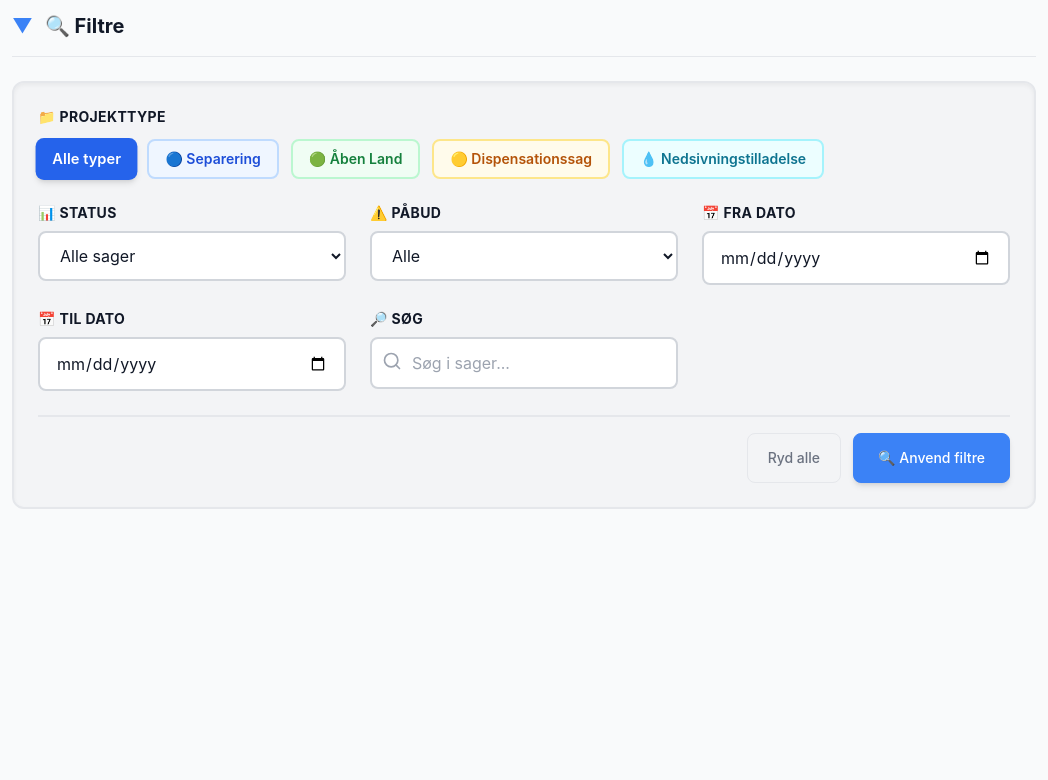
SagerFilters › shows clear button in search when text entered
Type "test" into the field named "Søg i sager" at point(524, 363), box left=370, top=337, right=678, bottom=389
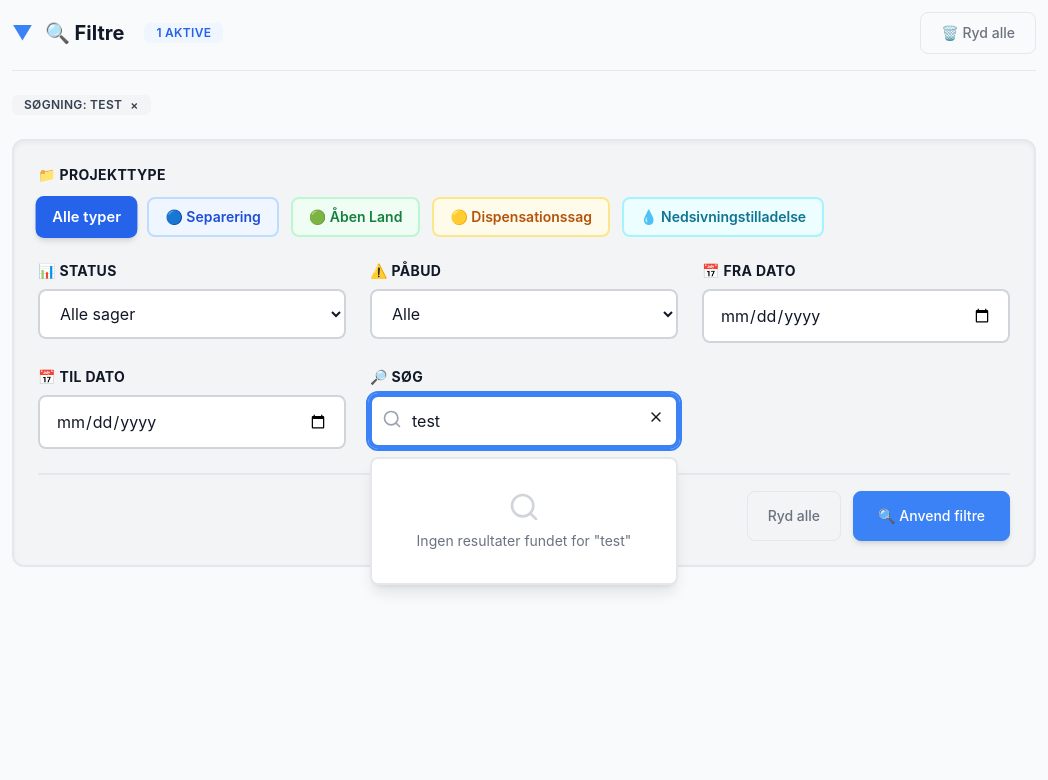
Expected: the button named "ryd søgning" is shown, left=646, top=407, right=666, bottom=427
